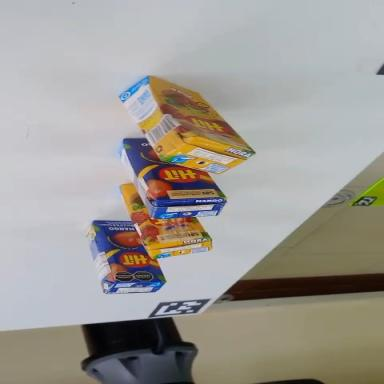HIT-MANGO: (97, 130, 233, 245), (81, 205, 168, 307)
HIT-MORA: (108, 55, 254, 202), (99, 180, 220, 281)
cara_F: (105, 129, 233, 230), (143, 59, 254, 174), (102, 179, 216, 270), (90, 204, 167, 301)
